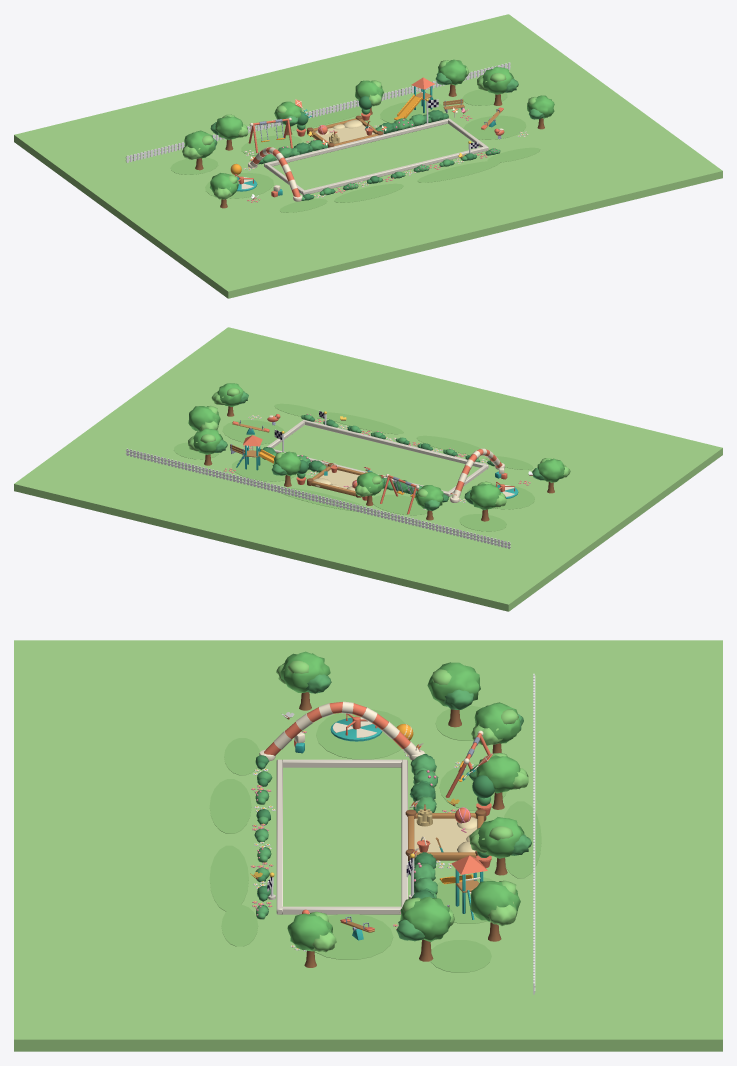
The model's file is frita.glb.
3 renders of one model, top to bottom at view 1: azimuth 30°, elevation 25°; view 2: azimuth 150°, elevation 25°; view 3: azimuth 270°, elevation 25°, orthographic. The views are drawn at different scales.
Parts seen in each view (by area): view 1: lawn, patches, kerb, canopy_5, canopy_0, canopy_4, canopy_1, start_arch, sand, canopy_6, canopy_3, canopy_7 (+2 smaller); view 2: lawn, patches, kerb, canopy_0, canopy_4, canopy_5, canopy_6, start_arch, canopy_7, canopy_3, canopy_1, canopy_2 (+2 smaller); view 3: lawn, patches, kerb, start_arch, canopy_5, canopy_0, canopy_3, canopy_4, sand, canopy_6, canopy_1, canopy_7 (+4 smaller).
Part boxes in pixels (left/top/right/bottom): lawn: left=14, top=14, right=722, bottom=298; patches: left=170, top=89, right=540, bottom=212; kerb: left=264, top=118, right=488, bottom=195; canopy_5: left=477, top=66, right=518, bottom=94; canopy_0: left=182, top=130, right=217, bottom=159; canopy_4: left=435, top=59, right=469, bottom=85; canopy_1: left=210, top=114, right=248, bottom=139; start_arch: left=248, top=147, right=302, bottom=201; sand: left=315, top=120, right=374, bottom=142; canopy_6: left=210, top=173, right=238, bottom=199; canopy_3: left=355, top=80, right=383, bottom=106; canopy_7: left=527, top=95, right=554, bottom=119; lawn: left=14, top=327, right=722, bottom=611; patches: left=174, top=403, right=534, bottom=531; kerb: left=267, top=420, right=488, bottom=496; canopy_0: left=464, top=481, right=506, bottom=509; canopy_4: left=188, top=428, right=227, bottom=454; canopy_5: left=188, top=405, right=220, bottom=431; canopy_6: left=532, top=458, right=570, bottom=482; start_arch: left=450, top=448, right=504, bottom=502; canopy_7: left=211, top=383, right=248, bottom=406; canopy_3: left=271, top=451, right=301, bottom=476; canopy_1: left=415, top=485, right=443, bottom=510; canopy_2: left=355, top=472, right=385, bottom=496; lawn: left=14, top=640, right=722, bottom=1051; patches: left=209, top=705, right=541, bottom=972; kerb: left=276, top=759, right=407, bottom=914; start_arch: left=259, top=701, right=424, bottom=760; canopy_5: left=396, top=896, right=454, bottom=941; canopy_0: left=427, top=662, right=480, bottom=709; canopy_3: left=469, top=817, right=531, bottom=858; canopy_4: left=470, top=880, right=520, bottom=925; sand: left=414, top=817, right=477, bottom=852; canopy_6: left=276, top=651, right=331, bottom=693; canopy_1: left=471, top=702, right=523, bottom=745; canopy_7: left=287, top=911, right=336, bottom=952.
Bounding box in the file's own units: 72 × 5.99 × 54.
